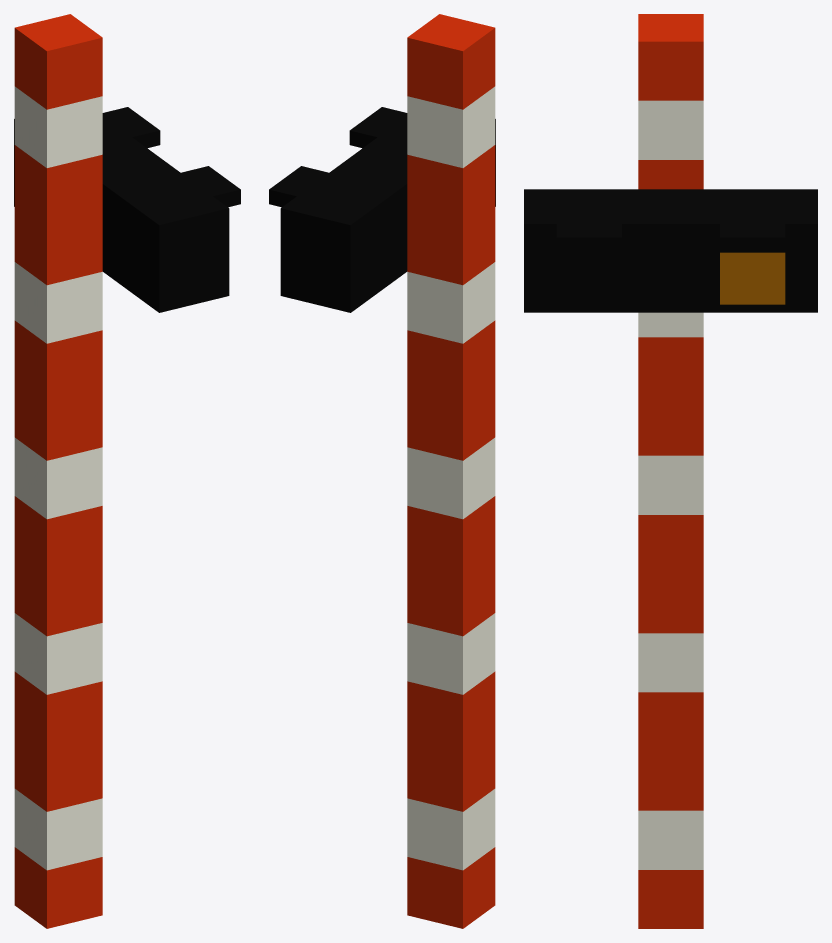
The model's file is semaforo-00.obj.
The picture shows the model from 3 angles, left to right: view 1: azimuth 30°, elevation 25°; view 2: azimuth 150°, elevation 25°; view 3: azimuth 270°, elevation 25°; orthographic projection.
Size of the model in its own units: 11 by 60 by 18.
Materials: 1 (1 with a texture image).
